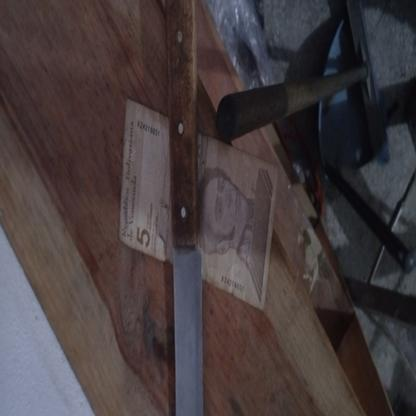five-front-vef: (119, 97, 279, 312)
